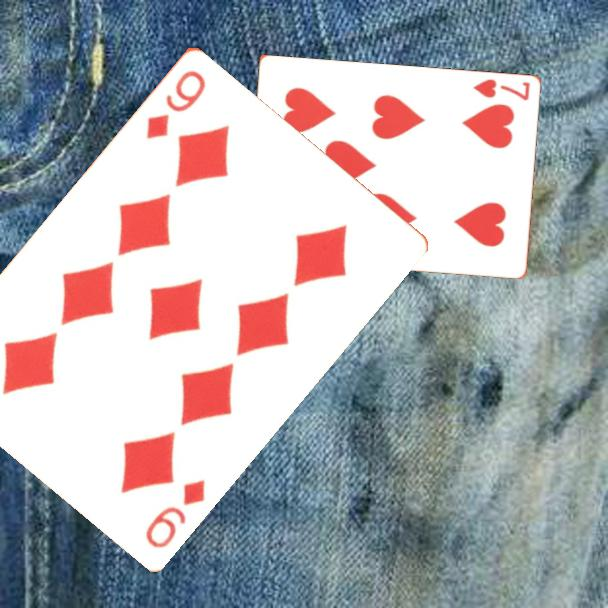d09: (141, 475, 209, 551), (142, 66, 209, 142)
h07: (469, 76, 532, 104)
